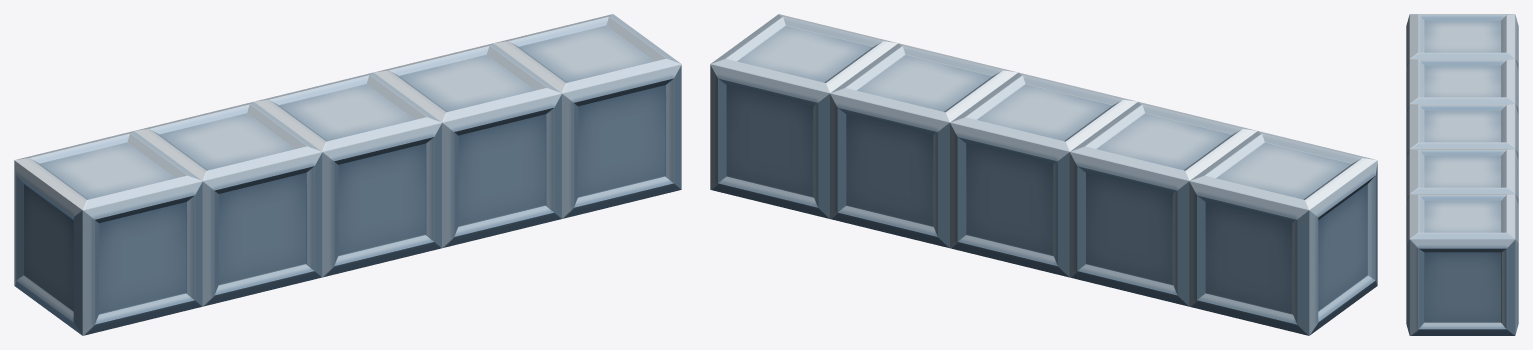
Rendered from PrototypeI5.fbx.
3 renders of one model, left to right at view 1: azimuth 30°, elevation 25°; view 2: azimuth 150°, elevation 25°; view 3: azimuth 270°, elevation 25°, orthographic. The views are drawn at different scales.
Visible parts, largest first — view 1: polySurface1; view 2: polySurface1; view 3: polySurface1.
Boxes of the visible parts, bbox=[...] form: polySurface1: bbox=[14, 14, 681, 335]; polySurface1: bbox=[710, 14, 1377, 335]; polySurface1: bbox=[1406, 14, 1518, 335].
Bounding box in the file's own units: 4.4 × 0.9244 × 0.9147.
1 material, 1 textured.
